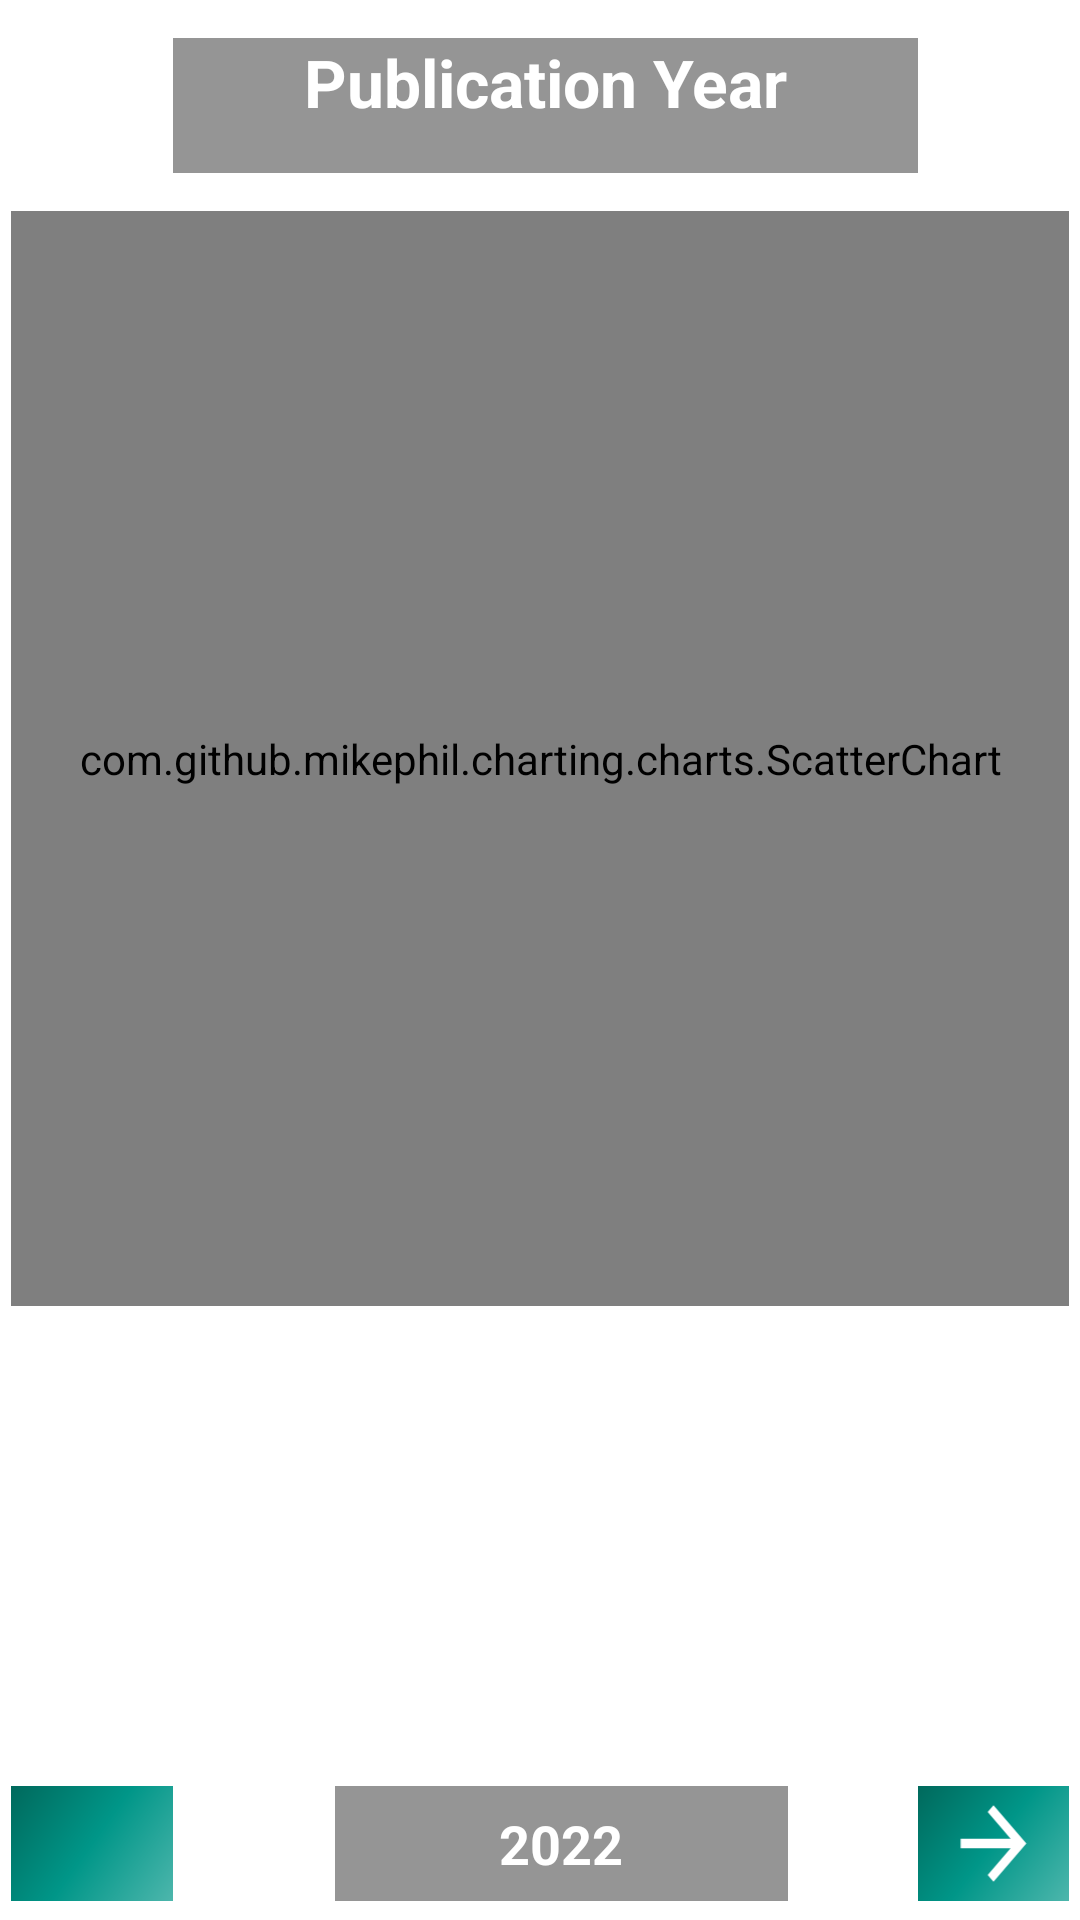

Named icons in this screenshot (1080 x 1920) and their centers, (x=x, y=y):
next: (x=993, y=1843)
